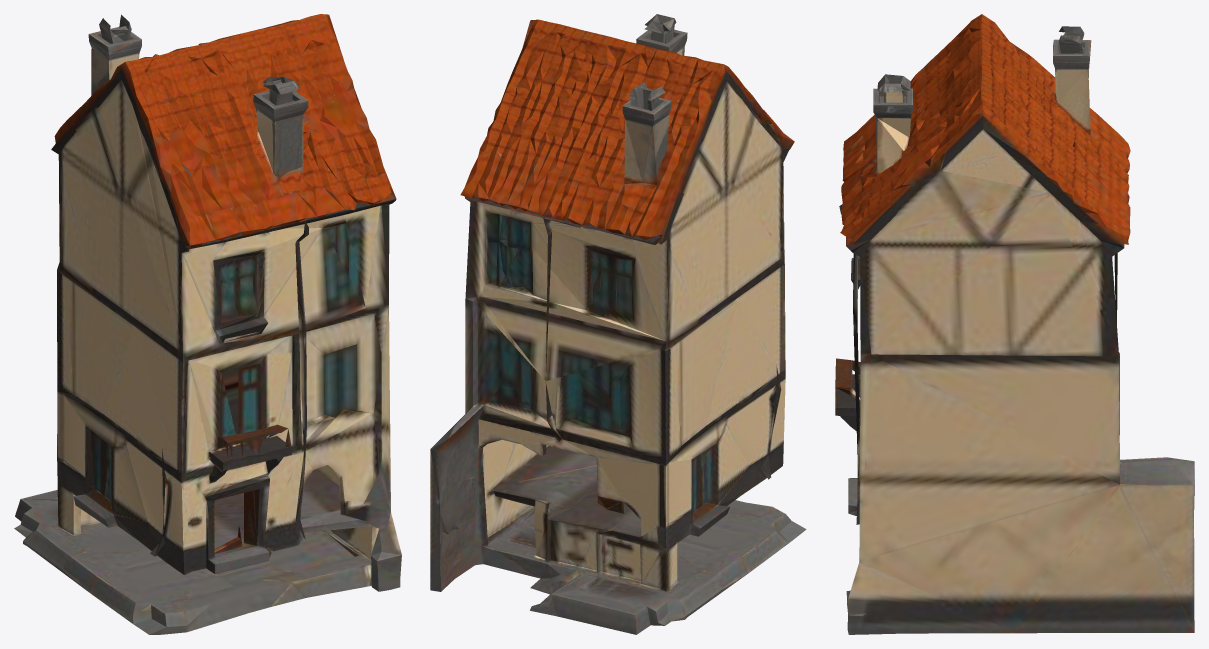
File: houseB.glb
3 views of the same model, side by side, from view 1: azimuth 30°, elevation 25°; view 2: azimuth 150°, elevation 25°; view 3: azimuth 270°, elevation 25° (orthographic). The views are drawn at different scales.
Visible parts, largest first — view 1: output_unwrapped; view 2: output_unwrapped; view 3: output_unwrapped.
Boxes of the visible parts, box(x1,y1,x2,y2) form: output_unwrapped: box(14, 14, 401, 634); output_unwrapped: box(430, 14, 806, 634); output_unwrapped: box(835, 14, 1194, 634).
Bounding box in the file's own units: 0.9087 × 1.9 × 1.19.
Materials: 1 (1 with a texture image).
